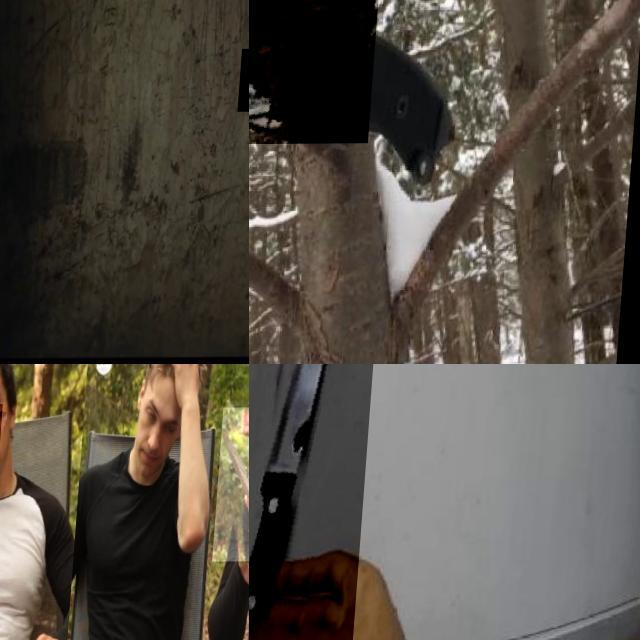-: (249, 364, 387, 640), (249, 0, 384, 144), (215, 408, 249, 562), (0, 404, 39, 522)
